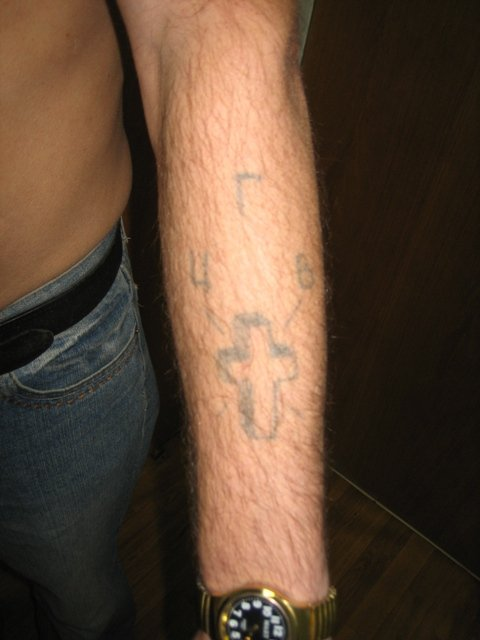tatu9_krest: (210, 315, 299, 445)
